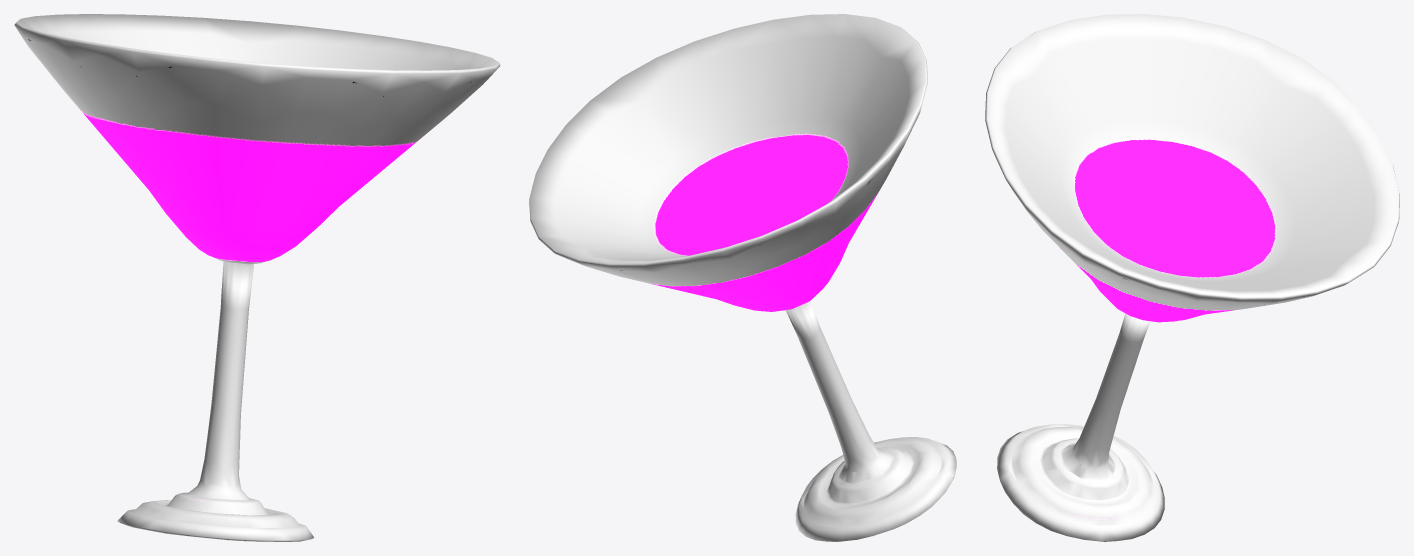
Rendered from kieliszekB.fbx.
3 views of the same model, side by side, from view 1: azimuth 30°, elevation 25°; view 2: azimuth 150°, elevation 25°; view 3: azimuth 270°, elevation 25° (orthographic). The views are drawn at different scales.
Visible parts, largest first — view 1: drink3_Baked.005; view 2: drink3_Baked.005; view 3: drink3_Baked.005.
Boxes of the visible parts, <box> form: drink3_Baked.005: <box>14,14,500,541</box>; drink3_Baked.005: <box>529,14,956,541</box>; drink3_Baked.005: <box>985,14,1399,541</box>.
Size of the model in its own units: 43.21 by 53.9 by 42.91.
